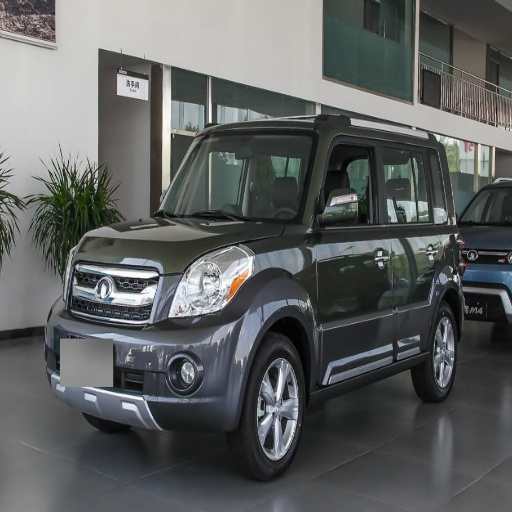front_bumper: (45, 258, 260, 429)
front_glass: (153, 129, 317, 222)
front_left_door: (311, 136, 394, 377)
trunk: (434, 234, 467, 299)
